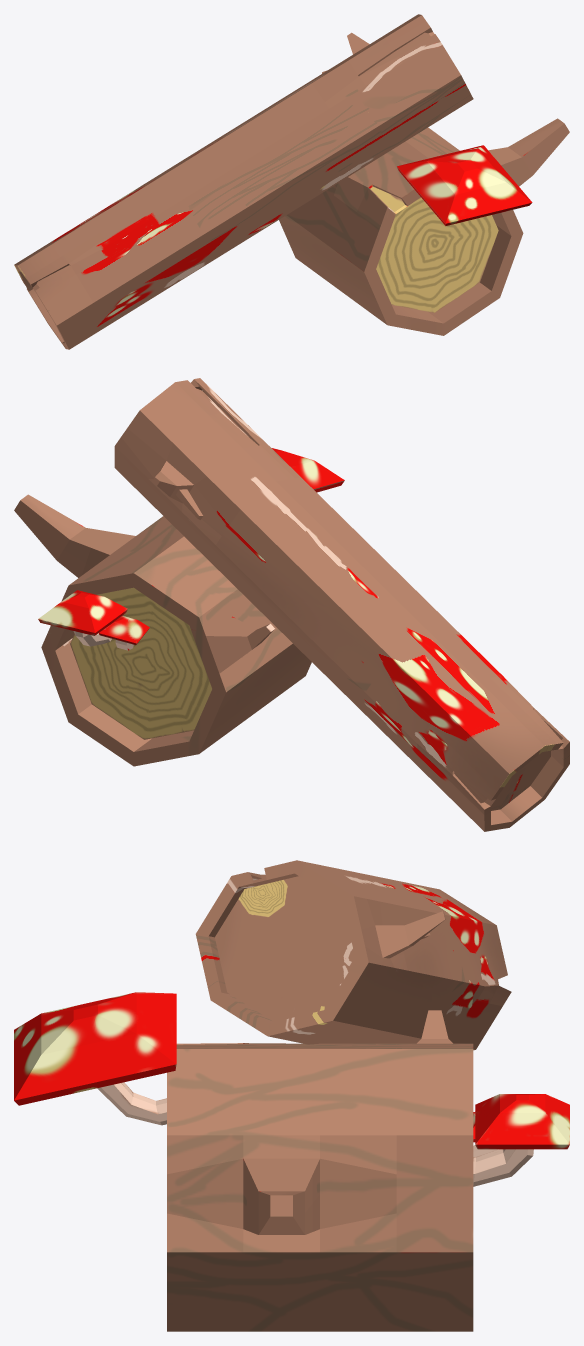
File: tree.fbx
3 renders of one model, top to bottom at view 1: azimuth 30°, elevation 25°; view 2: azimuth 150°, elevation 25°; view 3: azimuth 270°, elevation 25°, orthographic. The views are drawn at different scales.
Visible parts, largest first — view 1: Cylinder, Cylinder.002; view 2: Cylinder, Cylinder.002; view 3: Cylinder.002, Cylinder.
Boxes of the visible parts, left/top/right/bottom form: Cylinder: left=14, top=14, right=473, bottom=349; Cylinder.002: left=279, top=118, right=569, bottom=335; Cylinder: left=114, top=378, right=569, bottom=831; Cylinder.002: left=14, top=448, right=344, bottom=766; Cylinder.002: left=14, top=992, right=569, bottom=1331; Cylinder: left=195, top=860, right=511, bottom=1050.
Size of the model in its own units: 541 by 296 by 310.
2 materials, 2 textured.
